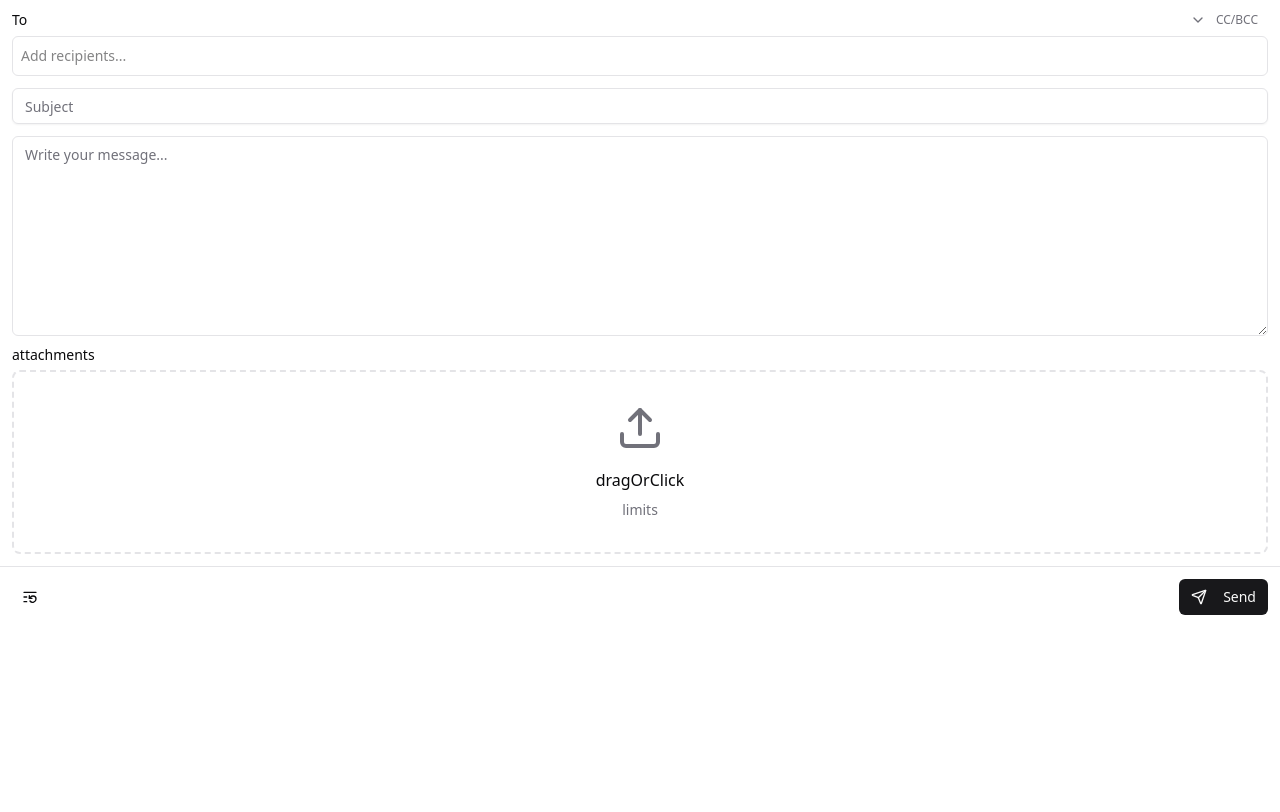
Scenario: EmailComposerForm › CC/BCC toggle › shows CC/BCC fields when toggle is clicked
Click the button "CC/BCC" at (1224, 20), box [1180, 12, 1268, 28]
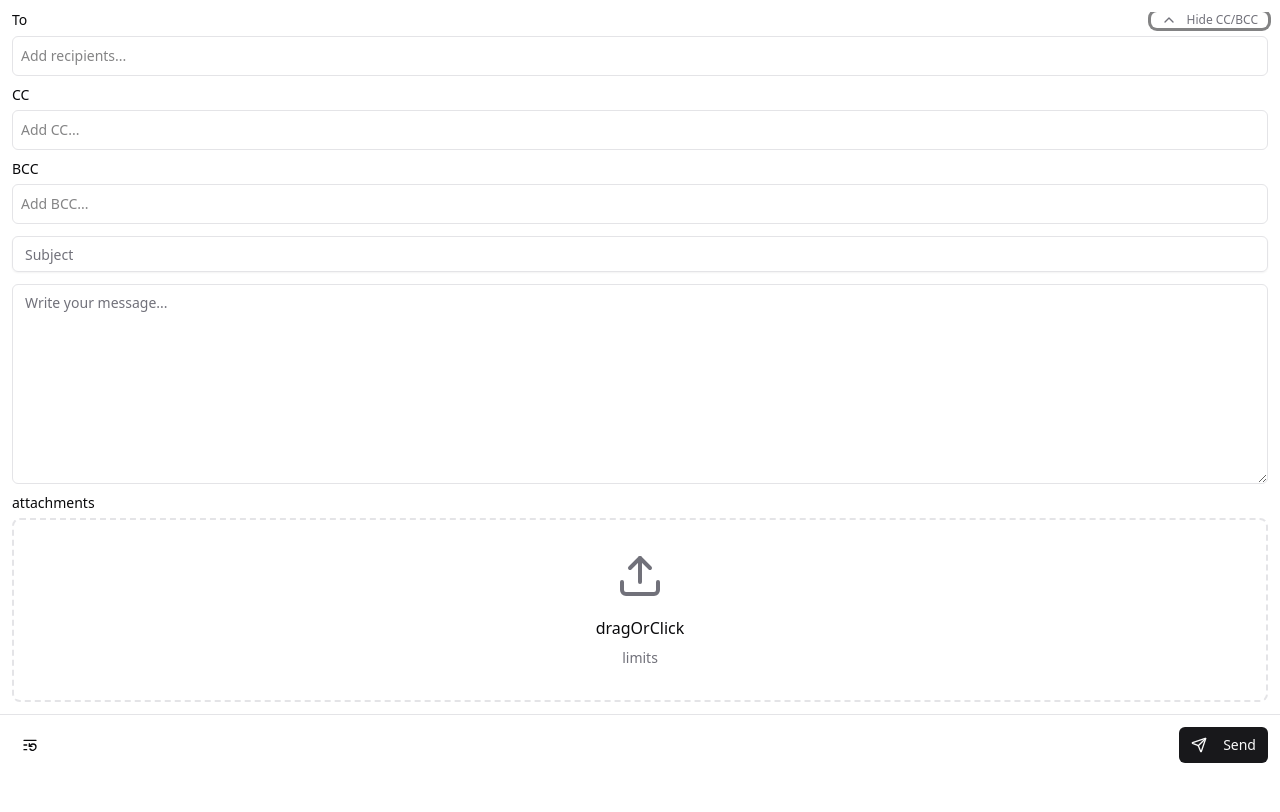
Expected: the text "CC" is shown, [12, 85, 29, 104]
Expected: the text "BCC" is shown, [12, 159, 38, 178]
